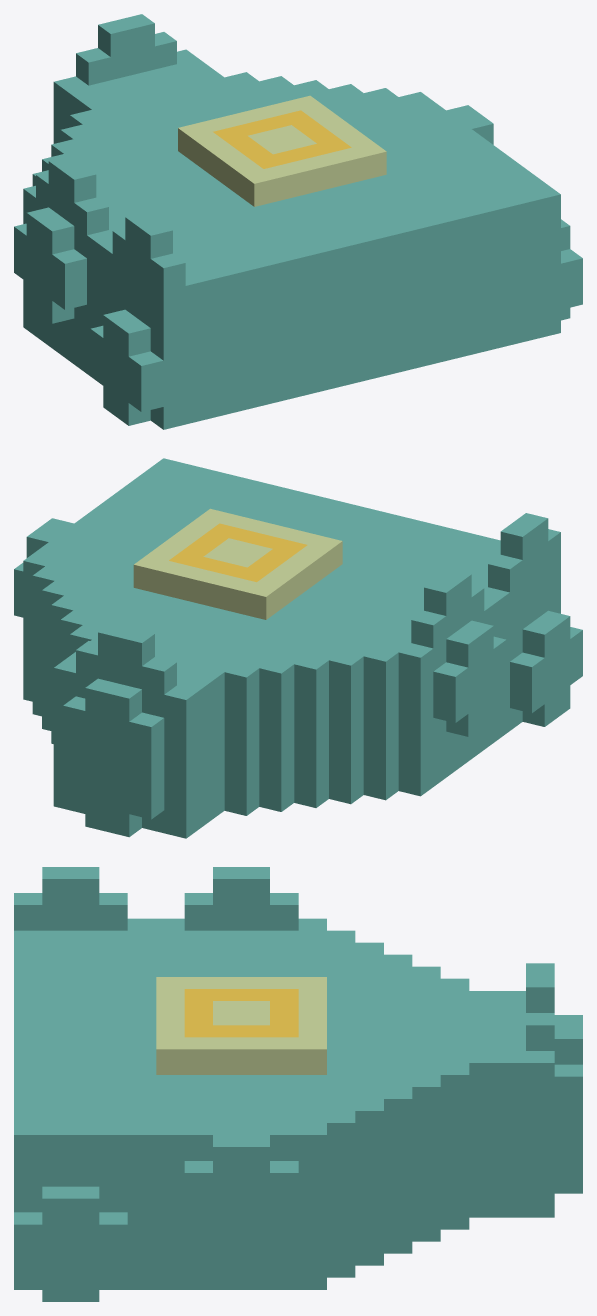
Rendered from platform_stand.fbx.
The picture shows the model from 3 angles, top to bottom: view 1: azimuth 30°, elevation 25°; view 2: azimuth 150°, elevation 25°; view 3: azimuth 270°, elevation 25°; orthographic projection. The views are drawn at different scales.
Parts seen in each view (by area): view 1: 对象; view 2: 对象; view 3: 对象.
Boxes of the visible parts, x1,y1,x2,y2 form: 对象: [14, 14, 582, 429]; 对象: [14, 458, 582, 838]; 对象: [14, 867, 582, 1301].
Size of the model in its own units: 20 by 8 by 20.
1 material, 1 textured.
